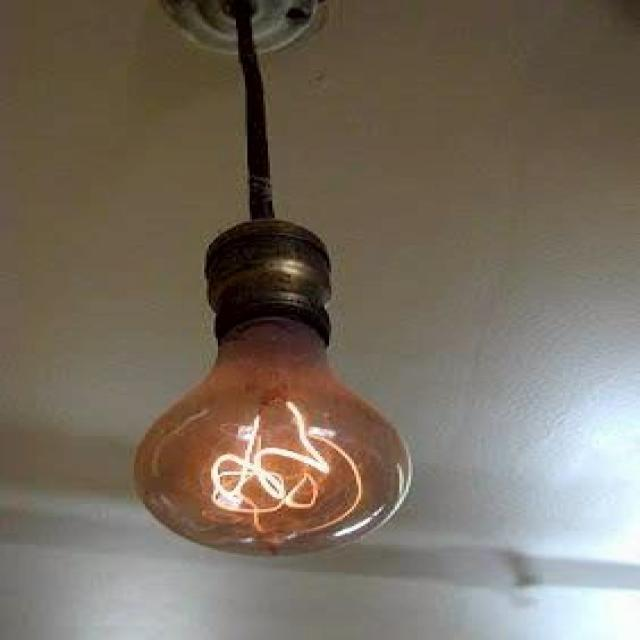bulb: (125, 223, 423, 558)
